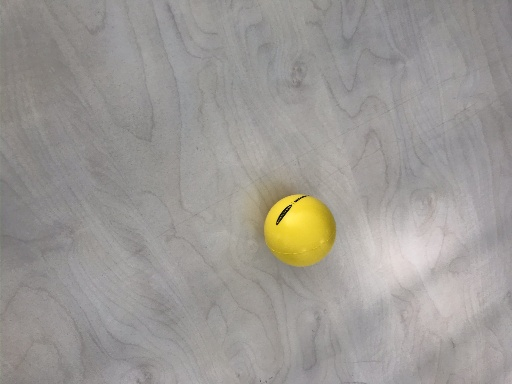Palla: (263, 190, 337, 268)
